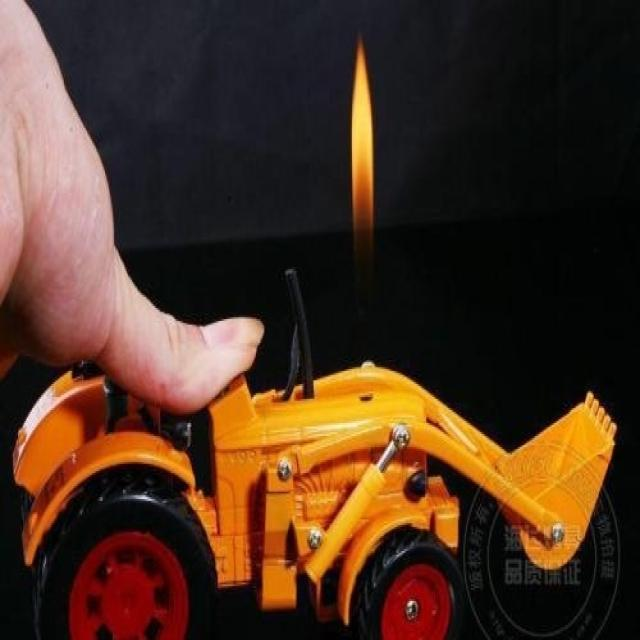Fire: (350, 35, 374, 230)
